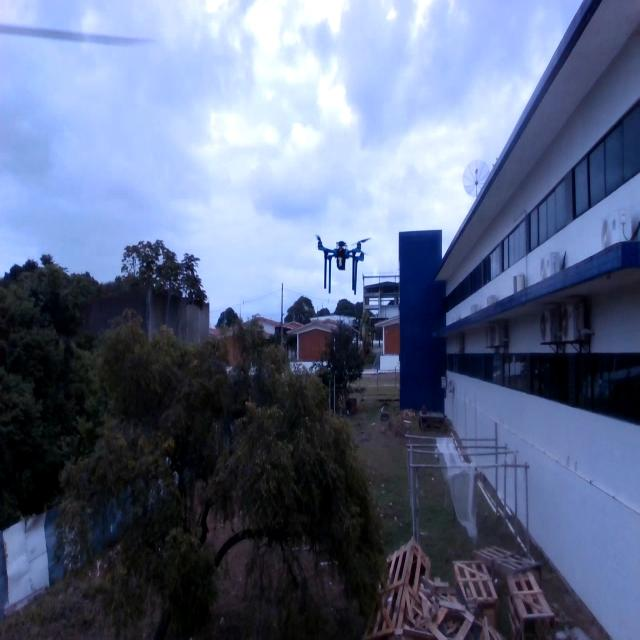-uav-: (307, 218, 373, 306)
